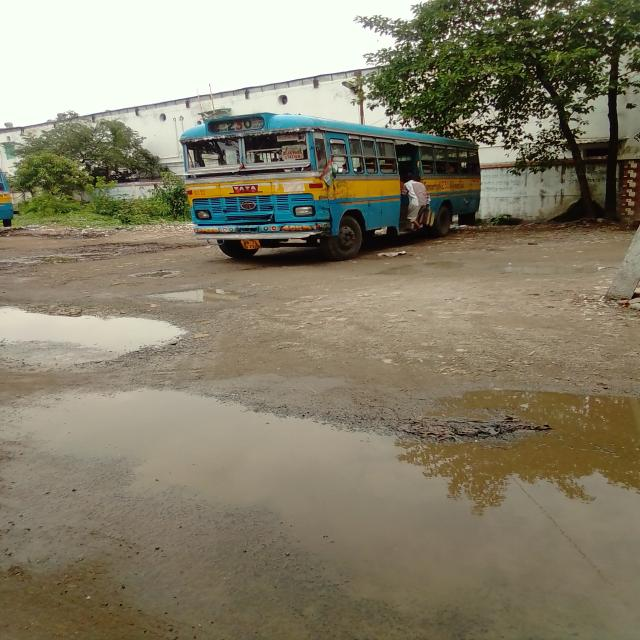Bus: (180, 112, 480, 260)
